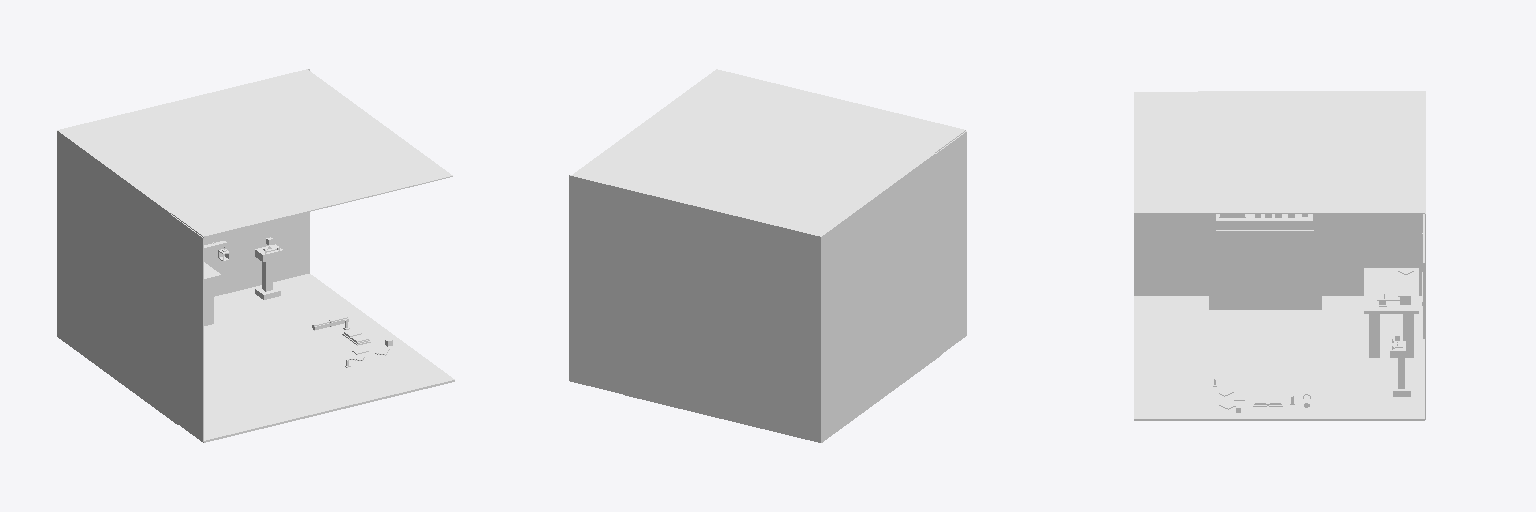
Rendered from place.obj.
The picture shows the model from 3 angles: view 1: azimuth 30°, elevation 25°; view 2: azimuth 150°, elevation 25°; view 3: azimuth 270°, elevation 25°; orthographic projection.
Parts seen in each view (by area): view 1: object 1; view 2: object 1; view 3: object 1.
Boxes of the visible parts, x1,y1,x2,y2 form: object 1: [57, 69, 454, 442]; object 1: [569, 69, 966, 442]; object 1: [1134, 91, 1425, 420].
Bounding box in the file's own units: 25.6 × 20 × 25.6.